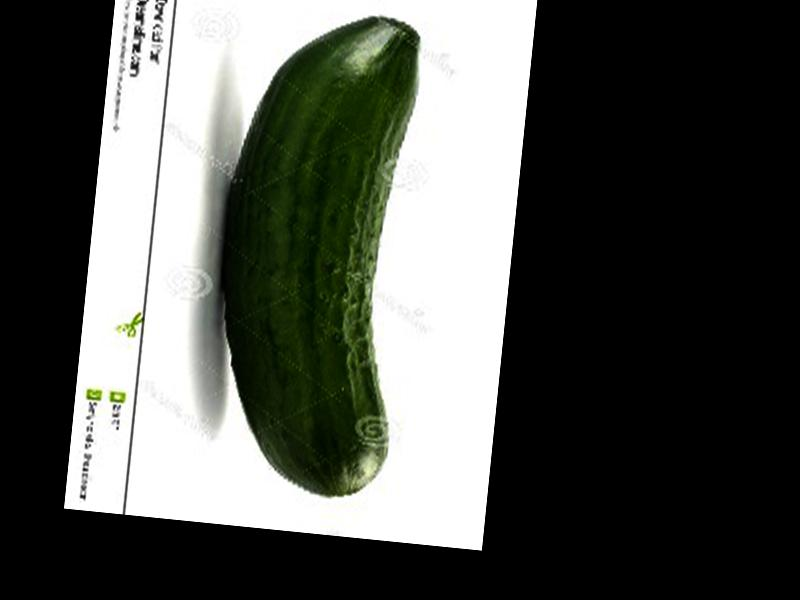Cucumber: (200, 6, 424, 500)
